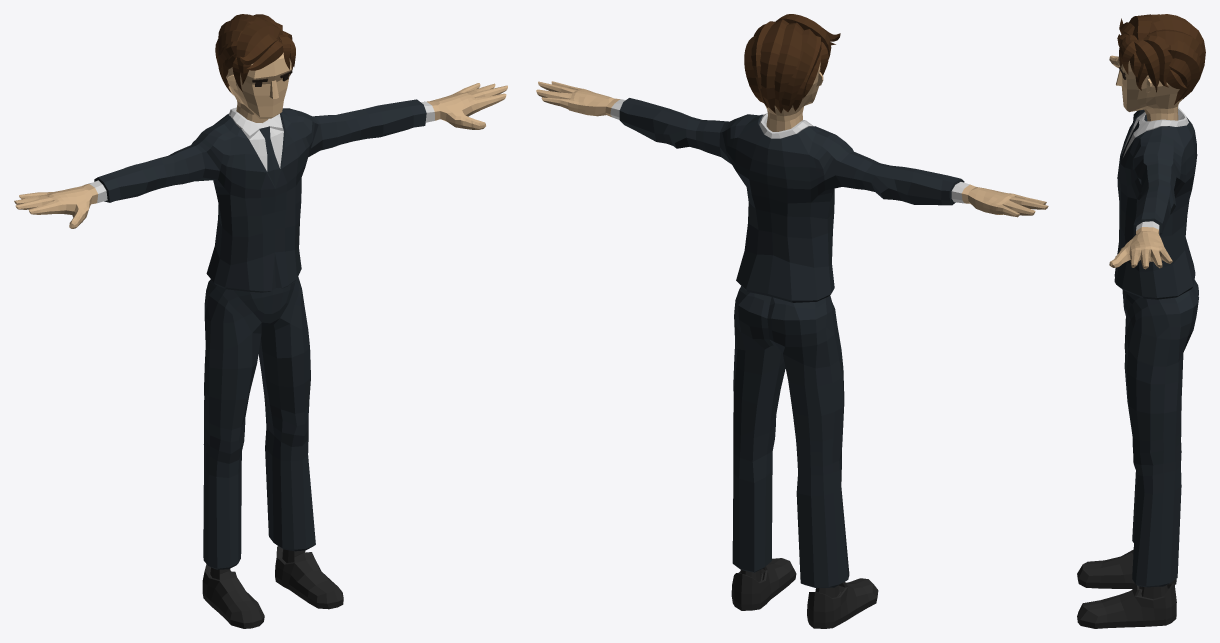
The model's file is business_character 1.fbx.
3 renders of one model, left to right at view 1: azimuth 30°, elevation 25°; view 2: azimuth 150°, elevation 25°; view 3: azimuth 270°, elevation 25°, orthographic. The views are drawn at different scales.
Parts seen in each view (by area): view 1: Suit_Body, Suit_Legs, Suit_Head, Suit_Feet; view 2: Suit_Body, Suit_Legs, Suit_Head, Suit_Feet; view 3: Suit_Legs, Suit_Body, Suit_Head, Suit_Feet.
Part boxes in pixels (left/top/right/bottom): Suit_Body: left=14, top=83, right=507, bottom=292; Suit_Legs: left=203, top=277, right=315, bottom=569; Suit_Head: left=215, top=14, right=295, bottom=122; Suit_Feet: left=202, top=546, right=343, bottom=628; Suit_Body: left=536, top=81, right=1048, bottom=302; Suit_Legs: left=732, top=286, right=849, bottom=588; Suit_Head: left=744, top=14, right=840, bottom=131; Suit_Feet: left=731, top=558, right=878, bottom=628; Suit_Legs: left=1122, top=280, right=1198, bottom=587; Suit_Body: left=1109, top=55, right=1197, bottom=299; Suit_Head: left=1116, top=14, right=1205, bottom=121; Suit_Feet: left=1077, top=549, right=1176, bottom=628.
Bounding box in the file's own units: 168 × 186 × 37.16.
